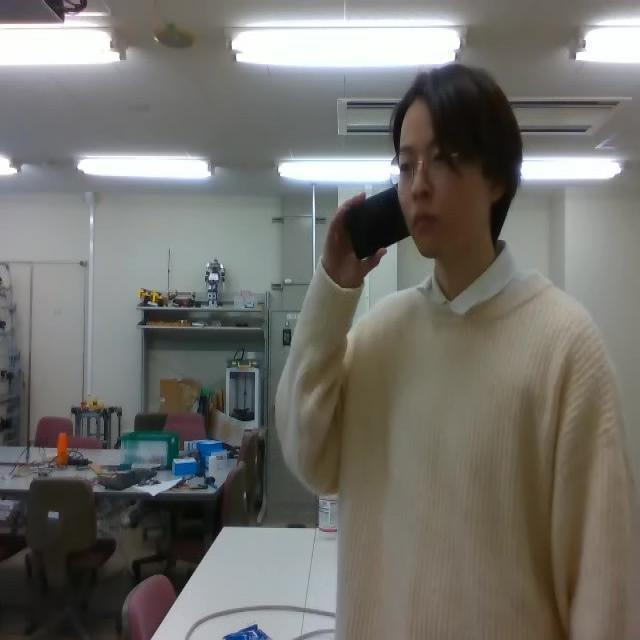Phone: (343, 180, 413, 262)
